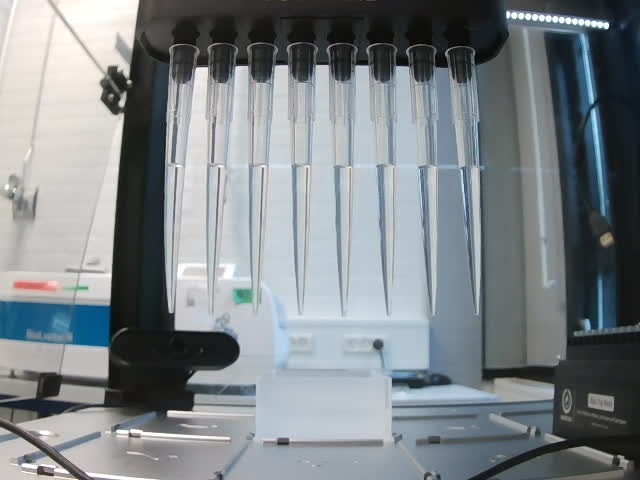pipet: (445, 46, 485, 316), (405, 44, 441, 317), (166, 44, 201, 314), (366, 42, 400, 318), (245, 42, 278, 317), (285, 43, 318, 316), (326, 43, 358, 317), (206, 43, 238, 315), (380, 38, 382, 42)
transparent liquid: (246, 161, 272, 315), (459, 164, 485, 315), (289, 163, 314, 316), (416, 164, 440, 317), (374, 162, 397, 317), (205, 161, 228, 314), (333, 164, 355, 317), (163, 161, 183, 314)
